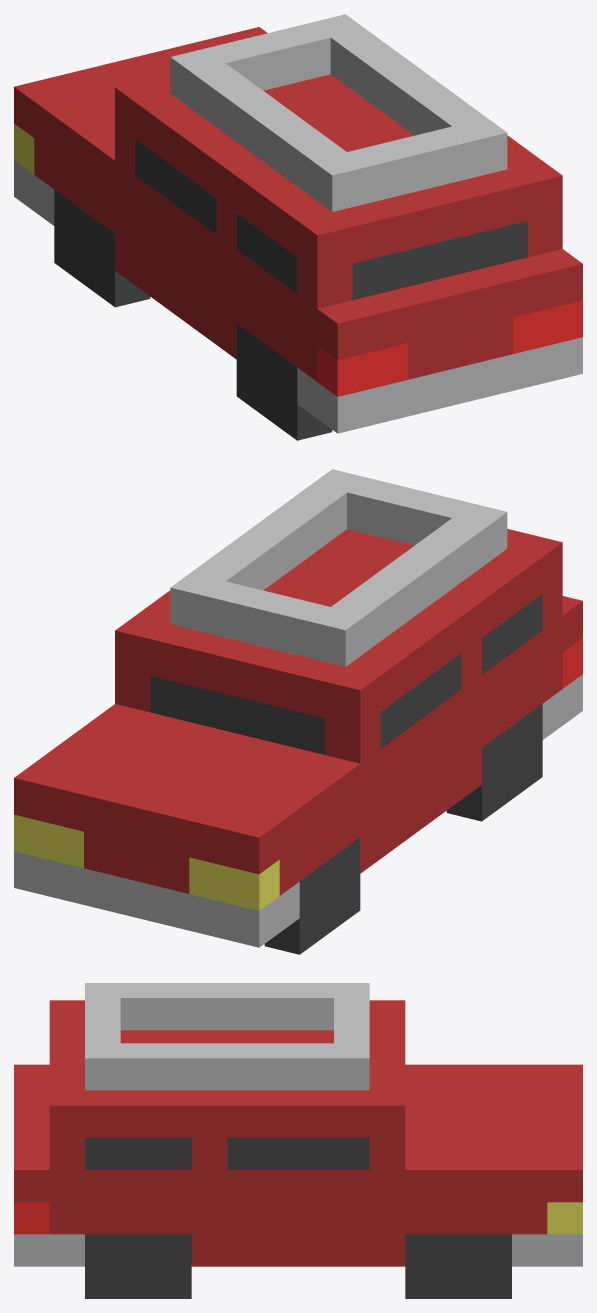
File: cars-3-RedCar.obj
3 views of the same model, one above another, from view 1: azimuth 30°, elevation 25°; view 2: azimuth 150°, elevation 25°; view 3: azimuth 270°, elevation 25° (orthographic). The views are drawn at different scales.
Parts seen in each view (by area): view 1: RedCar; view 2: RedCar; view 3: RedCar.
Boxes of the visible parts, x1,y1,x2,y2 form: RedCar: (14,14,582,440); RedCar: (14,469,582,954); RedCar: (14,983,582,1298).
Size of the model in its own units: 0.7 by 0.7 by 1.6.
Materials: 1 (1 with a texture image).
